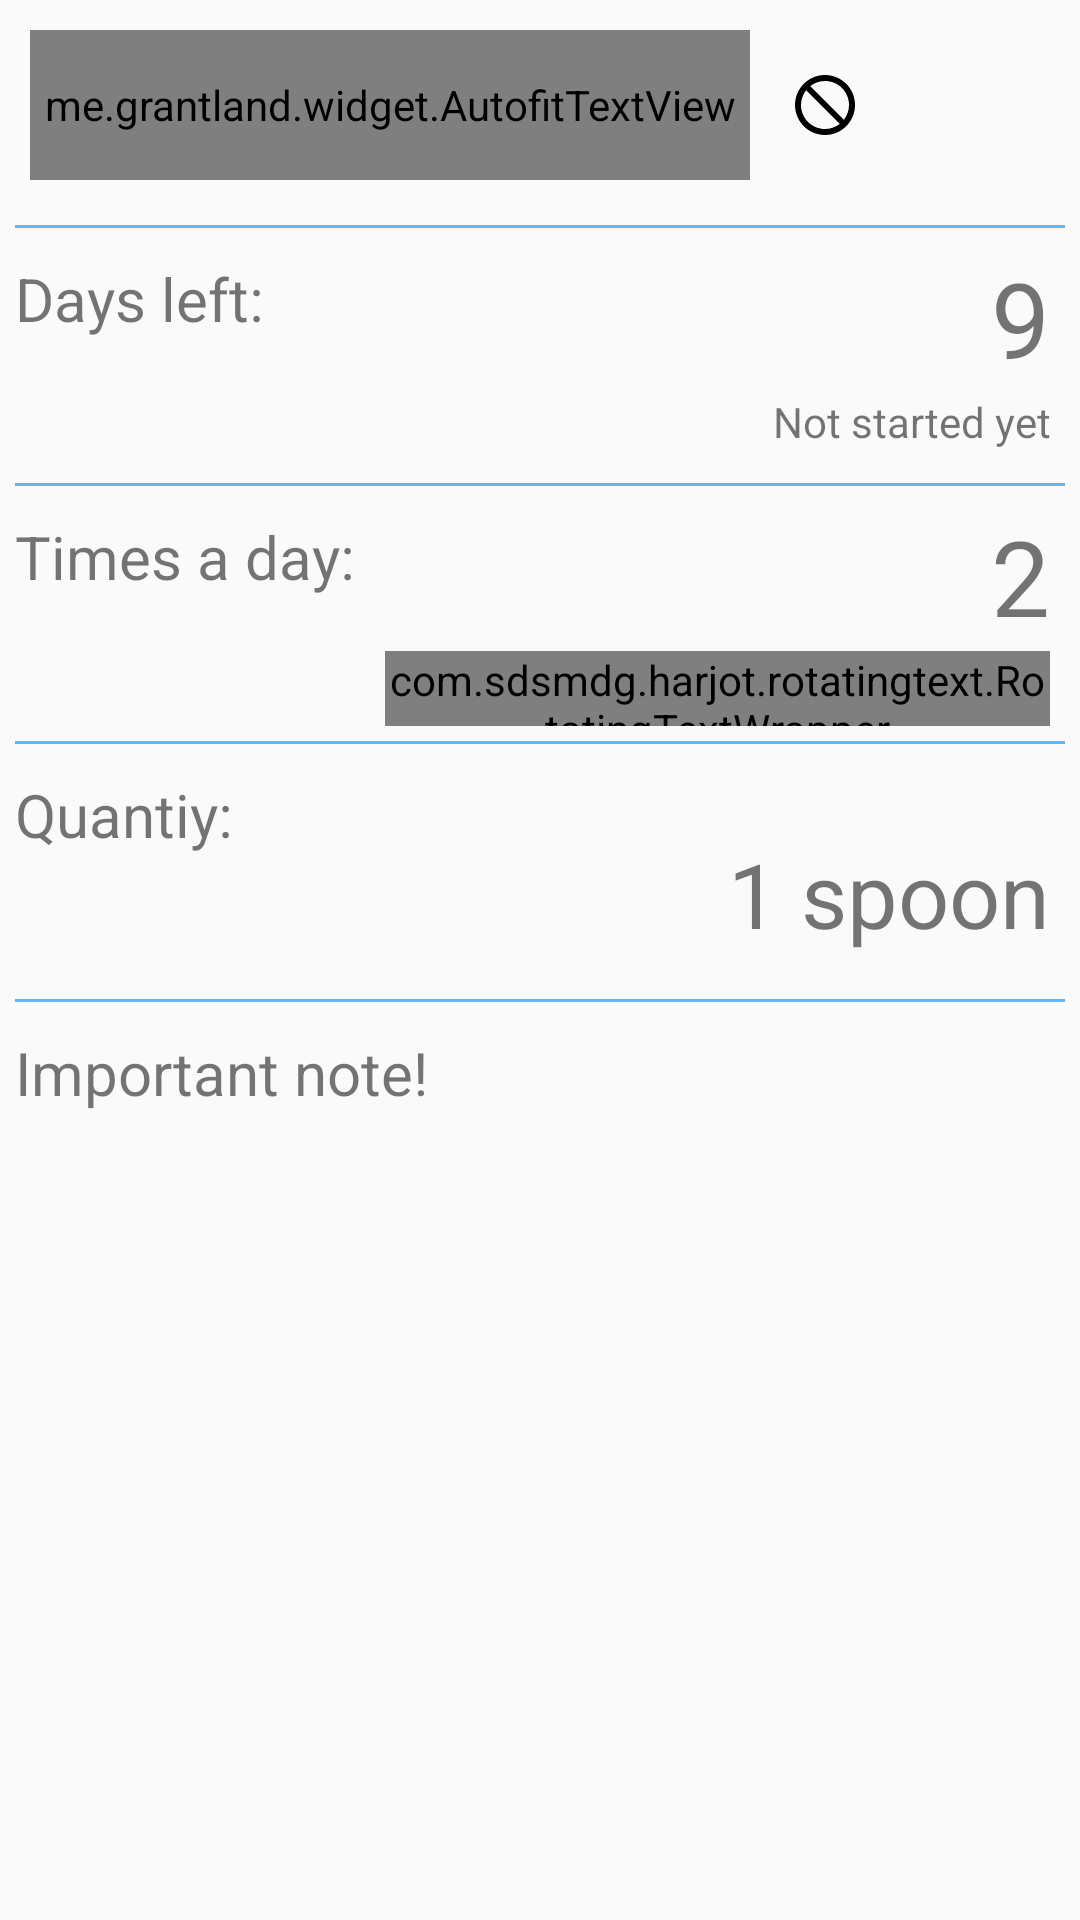

Icons on this 1080 x 1920 Android screen, each with its box as (x1=x1, y1=y1, x2=x2, y2=y2):
not interested: (x1=795, y1=75, x2=855, y2=135)
